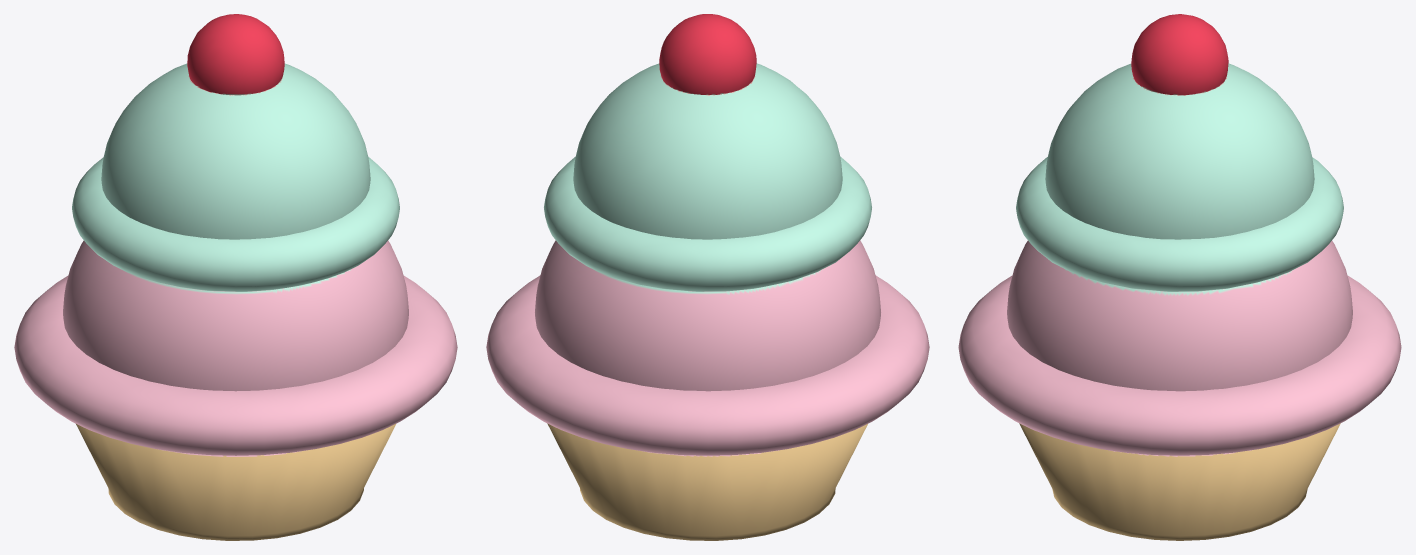
The model's file is Snack_IceCup.fbx.
3 renders of one model, left to right at view 1: azimuth 30°, elevation 25°; view 2: azimuth 150°, elevation 25°; view 3: azimuth 270°, elevation 25°, orthographic.
Visible parts, largest first — view 1: Snack_IceCup; view 2: Snack_IceCup; view 3: Snack_IceCup.
Boxes of the visible parts, x1,y1,x2,y2 form: Snack_IceCup: [14, 14, 457, 540]; Snack_IceCup: [486, 14, 929, 540]; Snack_IceCup: [958, 14, 1401, 540].
Size of the model in its own units: 346 by 403 by 346.
